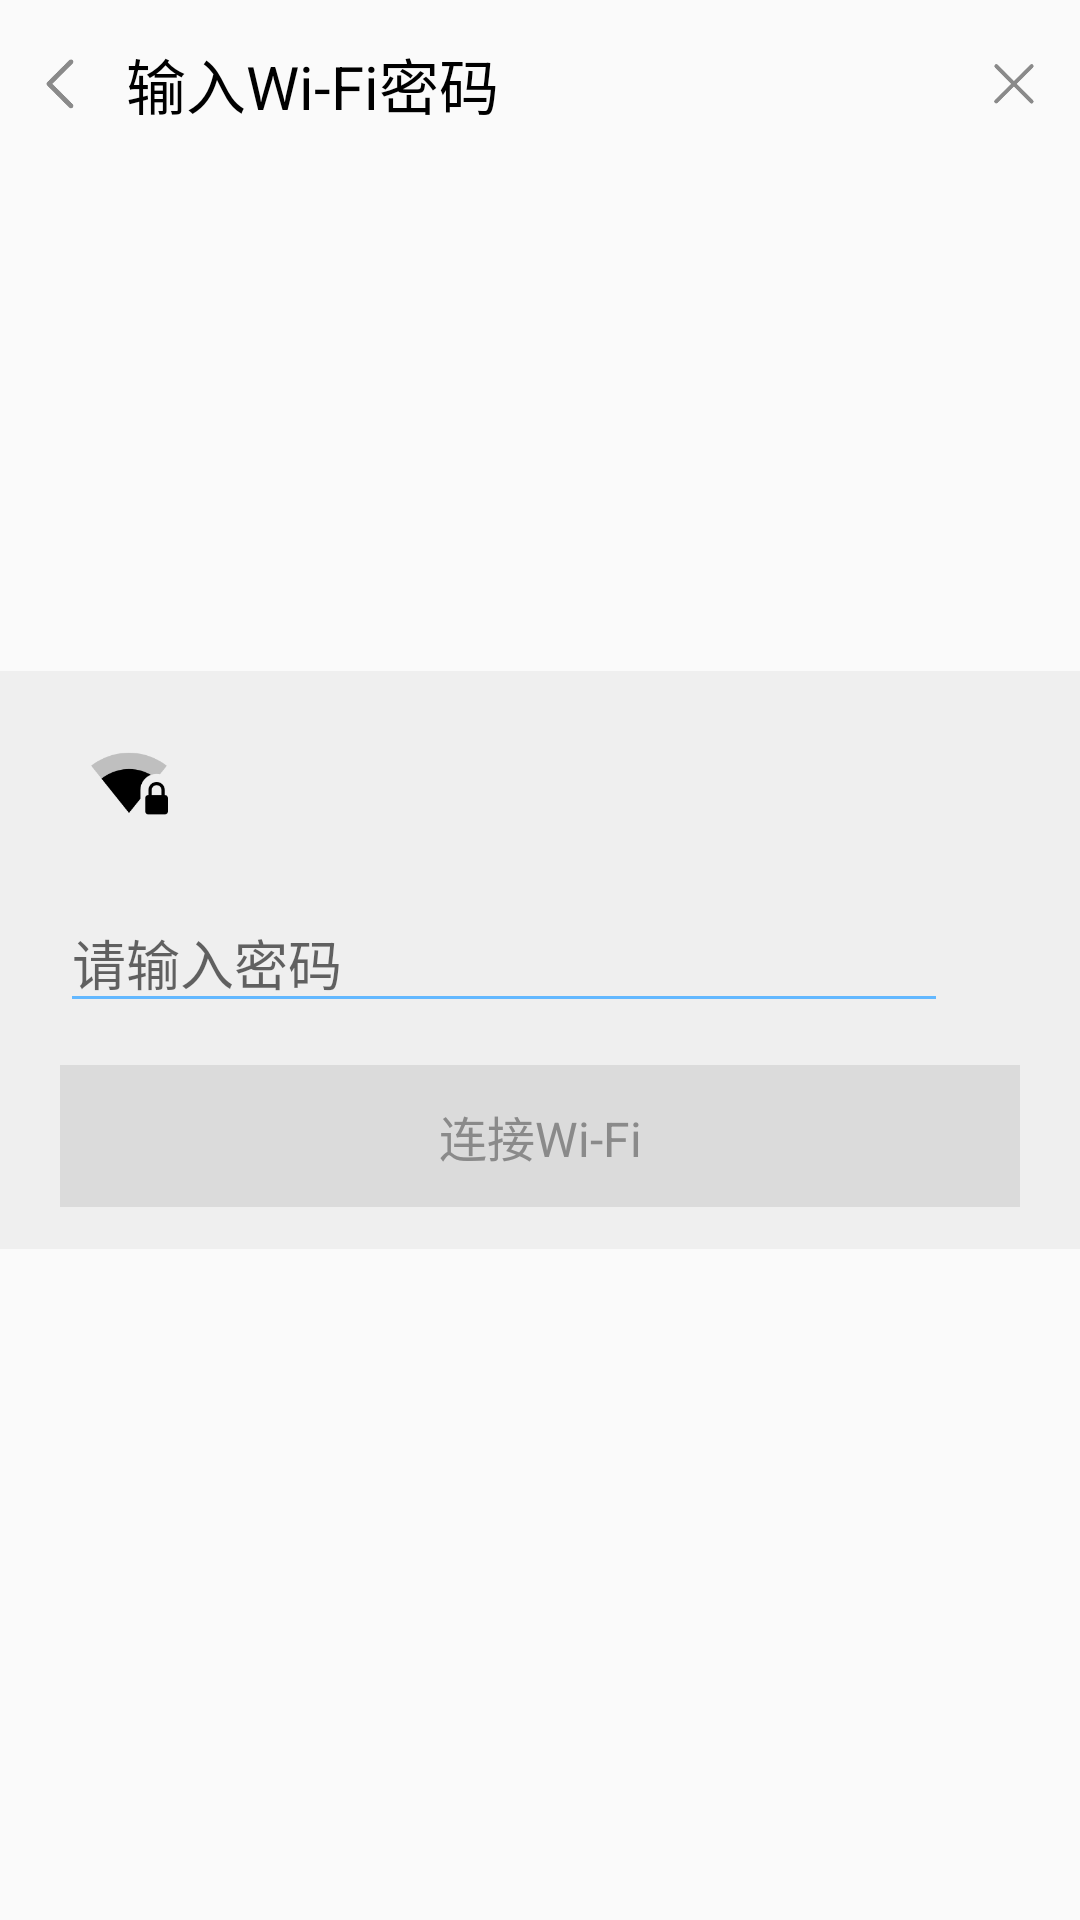

Icon click points for this 1080 x 1920 phone screenshot, format point (x, y):
left: point (60, 83)
wifi lock: point (130, 784)
